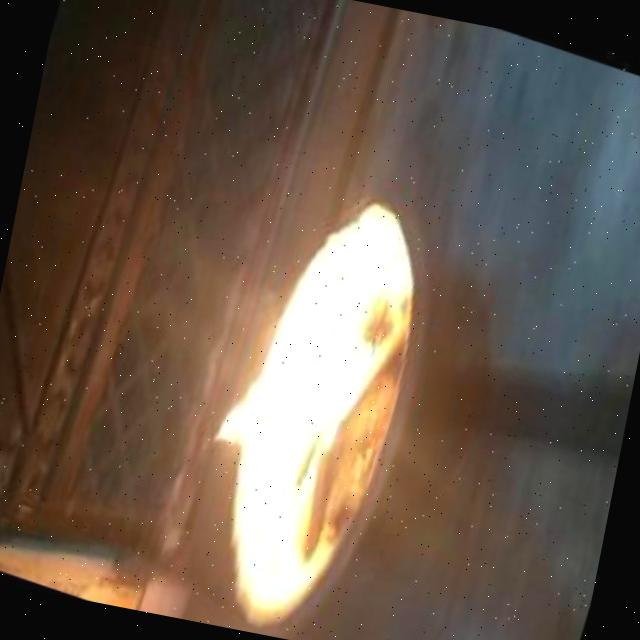fire: (187, 229, 409, 529)
